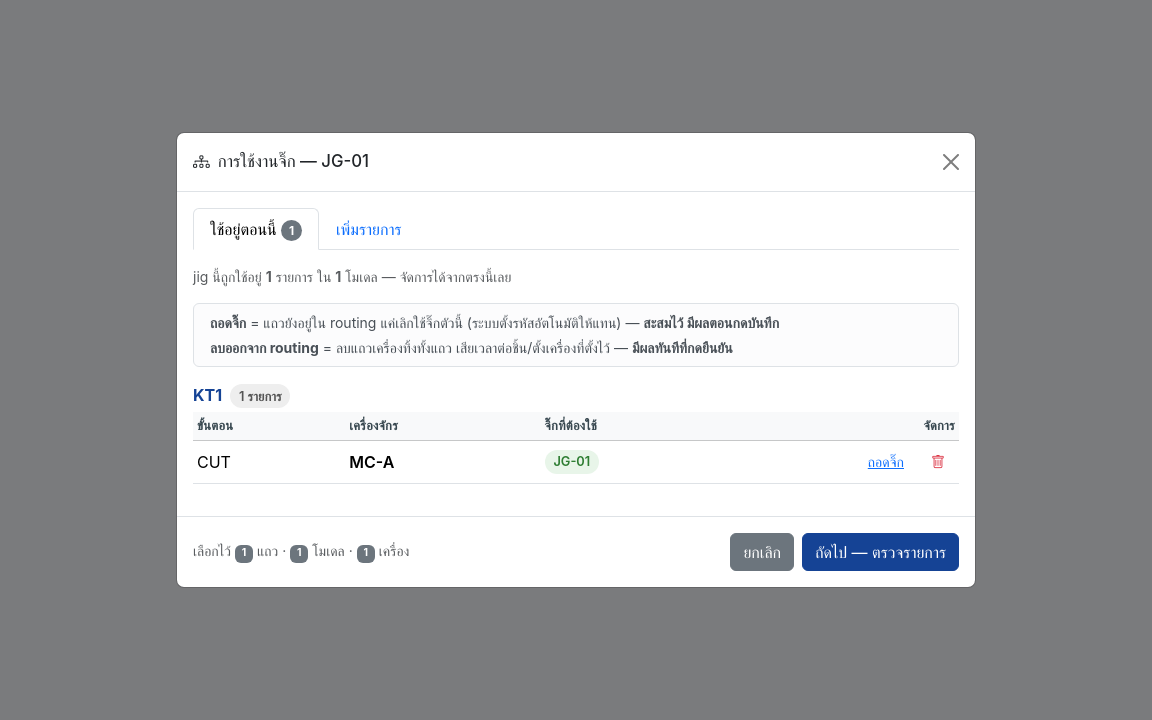
Test case: ลบแล้ว id นั้นต้องหลุดจากรายการที่เลือก (ไม่ถูกส่งไป assign อีก)
Click the button named "ลบ MC-A ของ KT1 CUT ออกจาก routing" at [938, 462], box [921, 445, 955, 479]
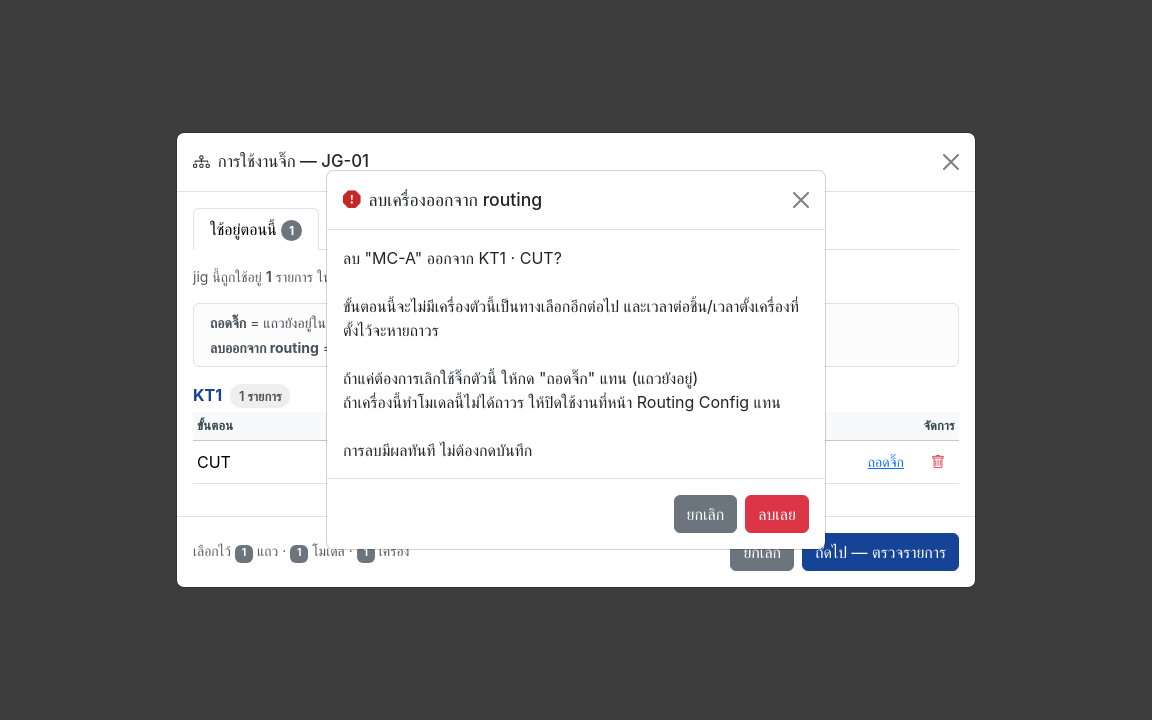
Click the button "ลบเลย" at [777, 514], box [745, 495, 809, 533]
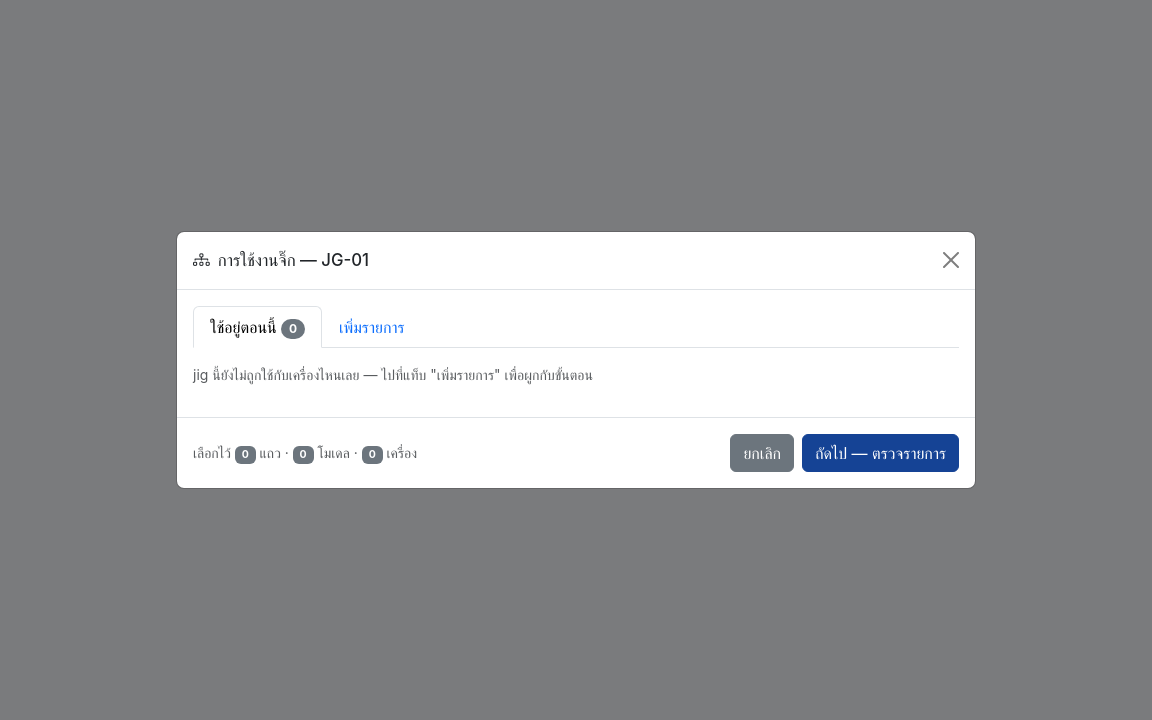
// หลังลบแล้วไม่มีอะไรค้าง — ปุ่มบันทึกต้อง disable
Click the button "ถัดไป — ตรวจรายการ" at [881, 453], box [802, 434, 959, 472]
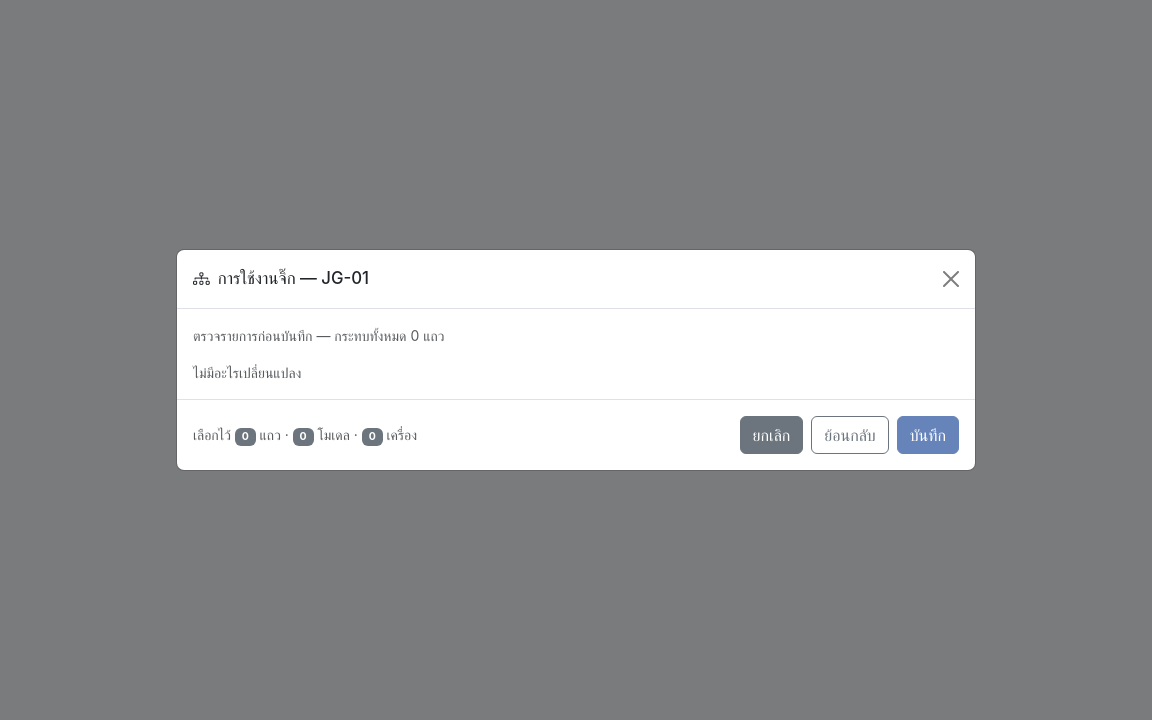
Result: the button "บันทึก" is disabled at [897, 416, 959, 454]
